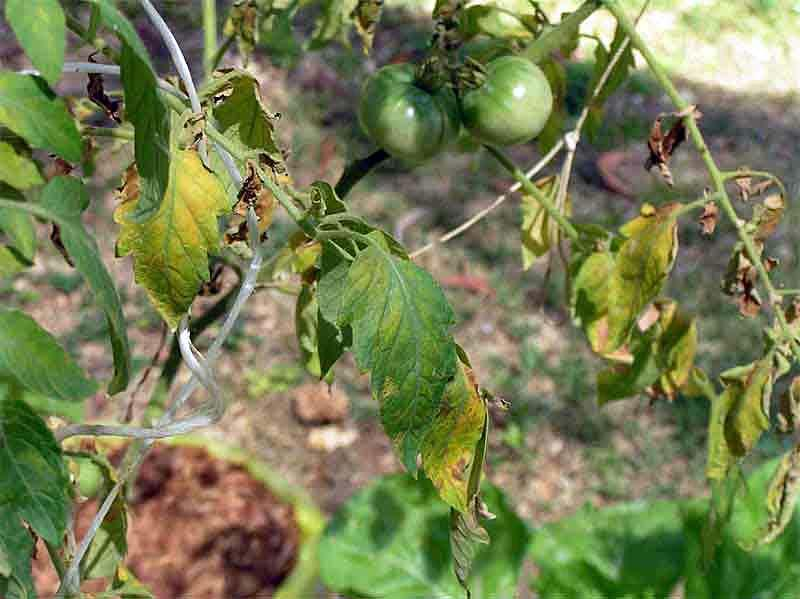Tomato mold leaf: (335, 245, 498, 538), (92, 135, 236, 348), (595, 203, 692, 346)
